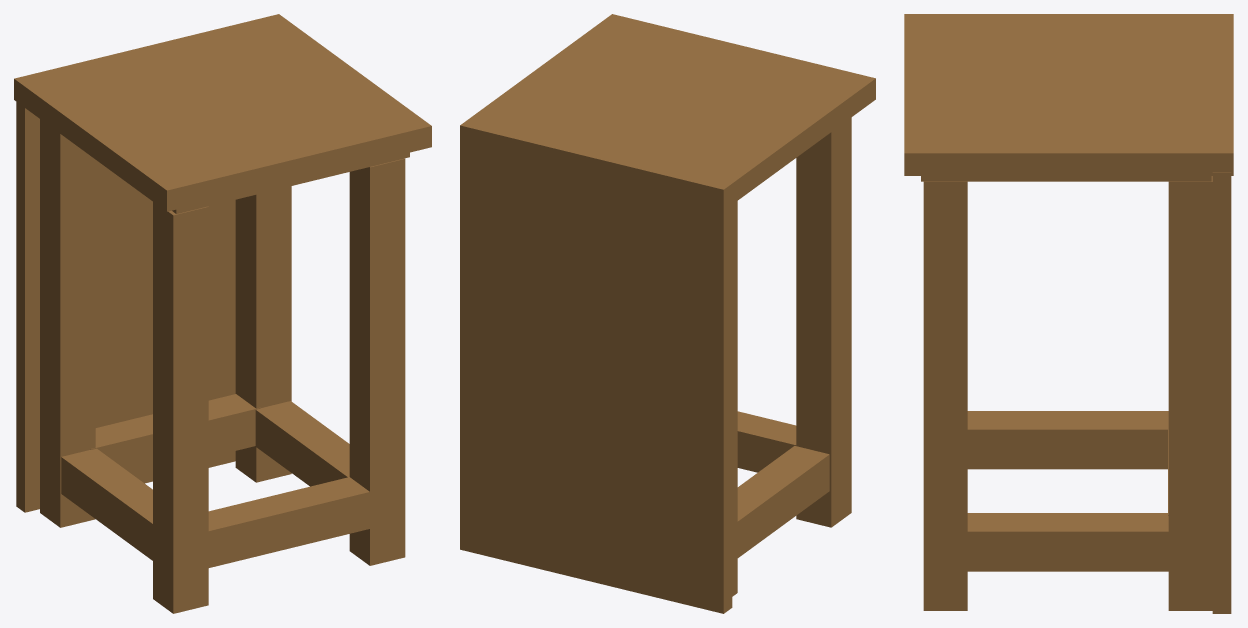
Rendered from G_ScienceRoomChair.fbx.
3 renders of one model, left to right at view 1: azimuth 30°, elevation 25°; view 2: azimuth 150°, elevation 25°; view 3: azimuth 270°, elevation 25°, orthographic. The views are drawn at different scales.
Visible parts, largest first — view 1: Cube.002; view 2: Cube.002; view 3: Cube.002.
Part boxes in pixels (x1,y1,x2,y2): Cube.002: (14,14,431,613); Cube.002: (460,14,875,613); Cube.002: (904,14,1233,613).
Size of the model in its own units: 301 by 469 by 300.
